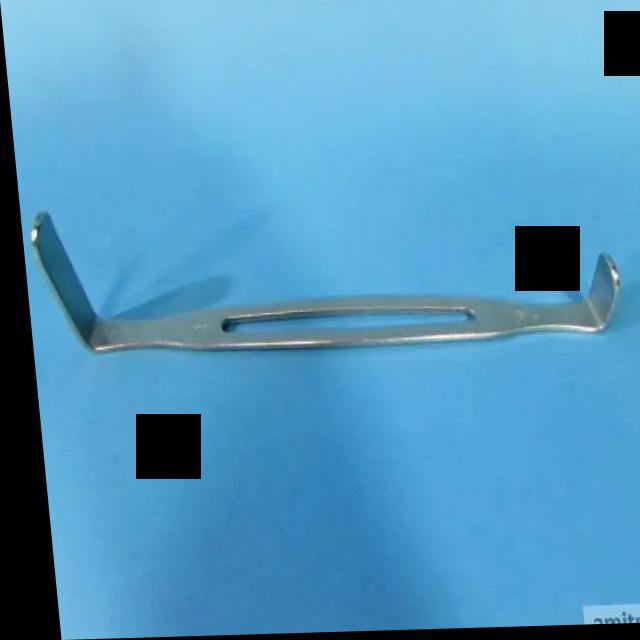Army Navy Retractor: (23, 188, 626, 372)
